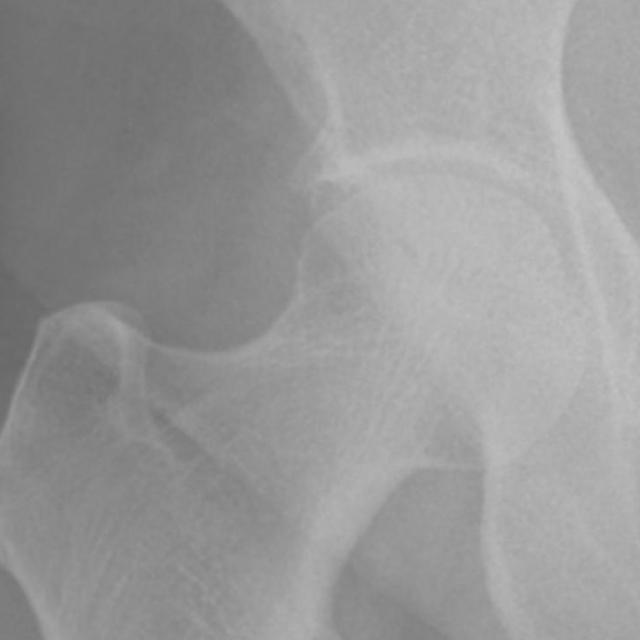Fitted_femural_head: (309, 174, 432, 309)
